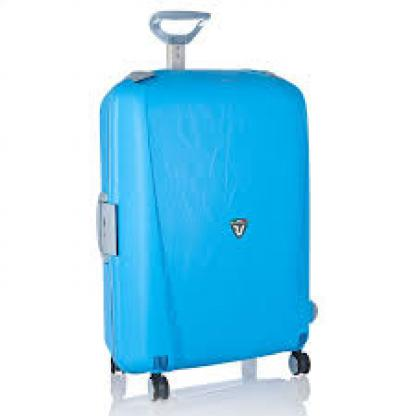maleta: (76, 63, 340, 403)
